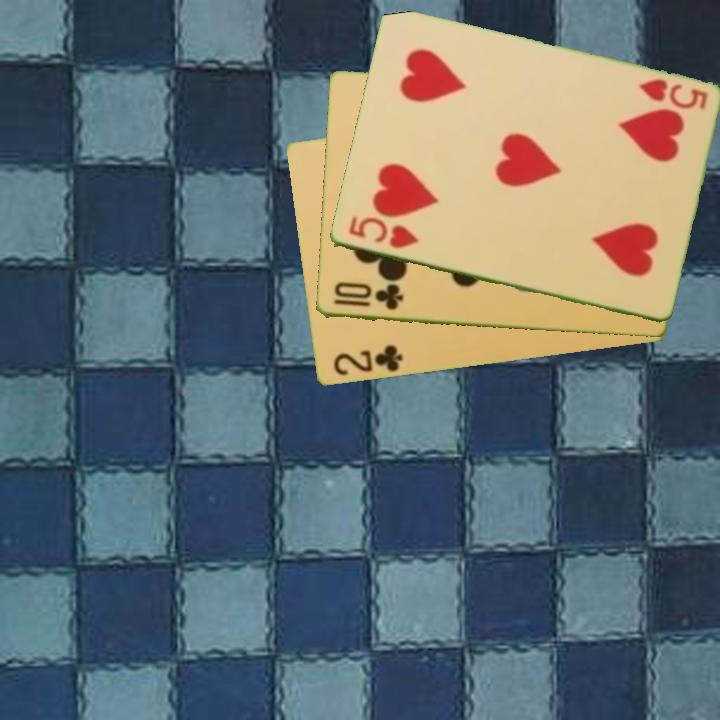10c: (330, 280, 405, 313)
2c: (329, 341, 405, 379)
5h: (344, 213, 421, 252), (634, 75, 710, 114)
